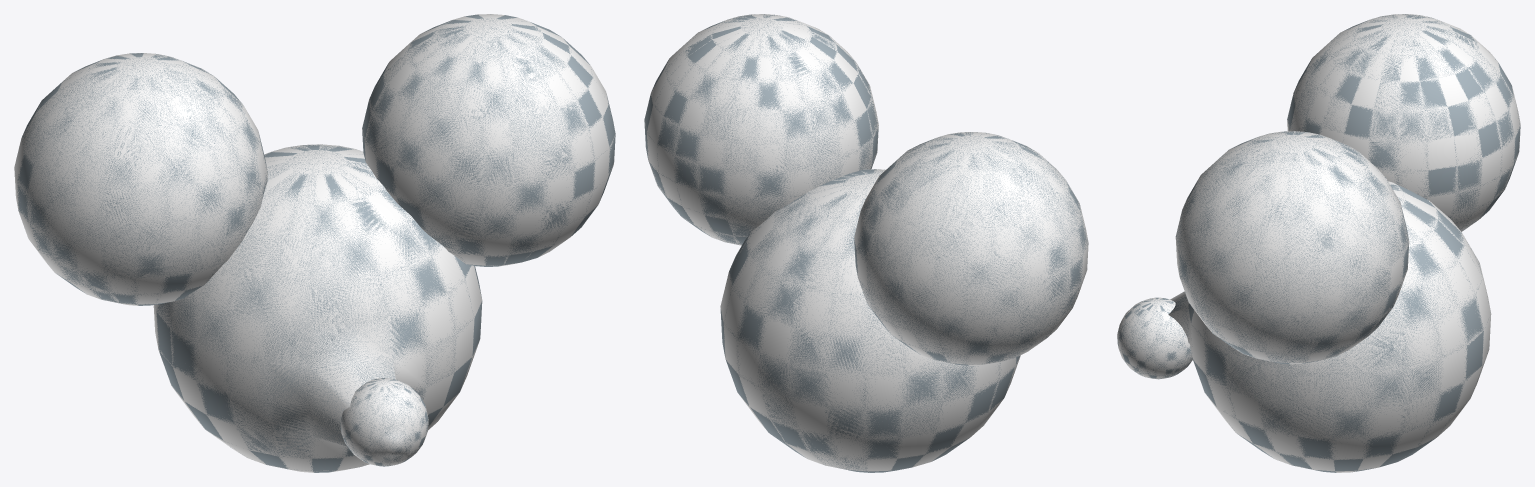
The model's file is Mickey_Mouse.fbx.
The picture shows the model from 3 angles, left to right: view 1: azimuth 30°, elevation 25°; view 2: azimuth 150°, elevation 25°; view 3: azimuth 270°, elevation 25°; orthographic projection. The views are drawn at different scales.
Parts seen in each view (by area): view 1: Model; view 2: Model; view 3: Model.
Part boxes in pixels (box(x1,y1,x2,y2)): Model: box(14, 14, 615, 472); Model: box(644, 14, 1088, 472); Model: box(1117, 14, 1520, 472).
Bounding box in the file's own units: 87.37 × 68.18 × 65.37.
